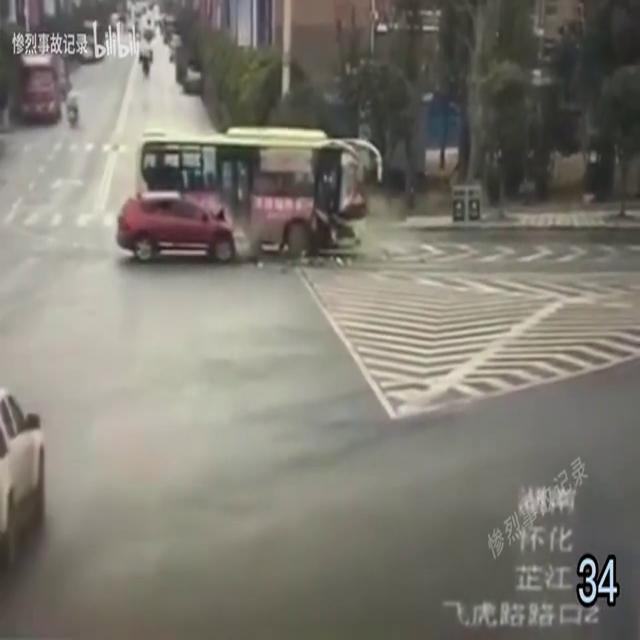accident: (114, 126, 386, 270)
